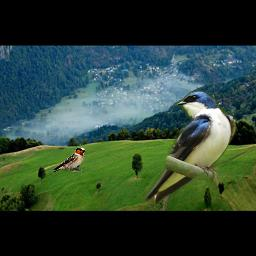Swallow: (143, 90, 237, 205), (52, 147, 85, 172)
